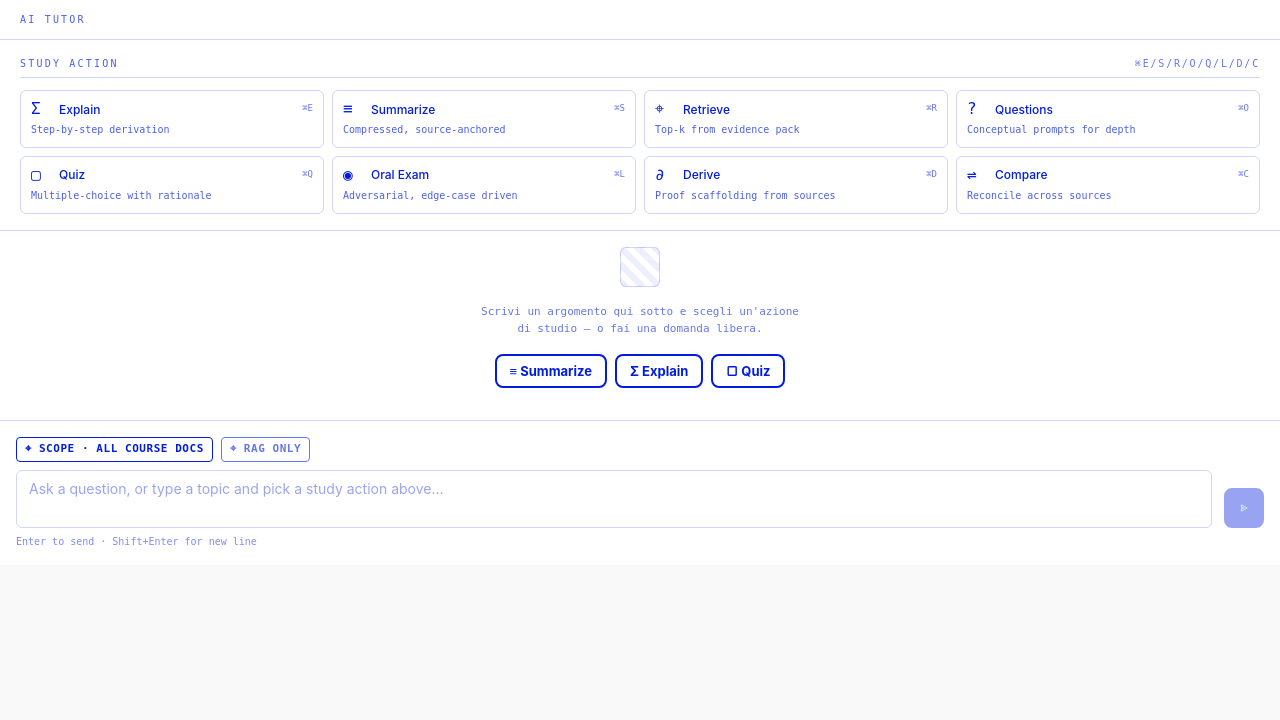
Test: OutputPane › sending a message › shows user message in the thread after send
This screenshot has width=1280, height=720.
Type "What is a UTXO?" into the text box named "message input" at (614, 499), box [16, 470, 1212, 528]
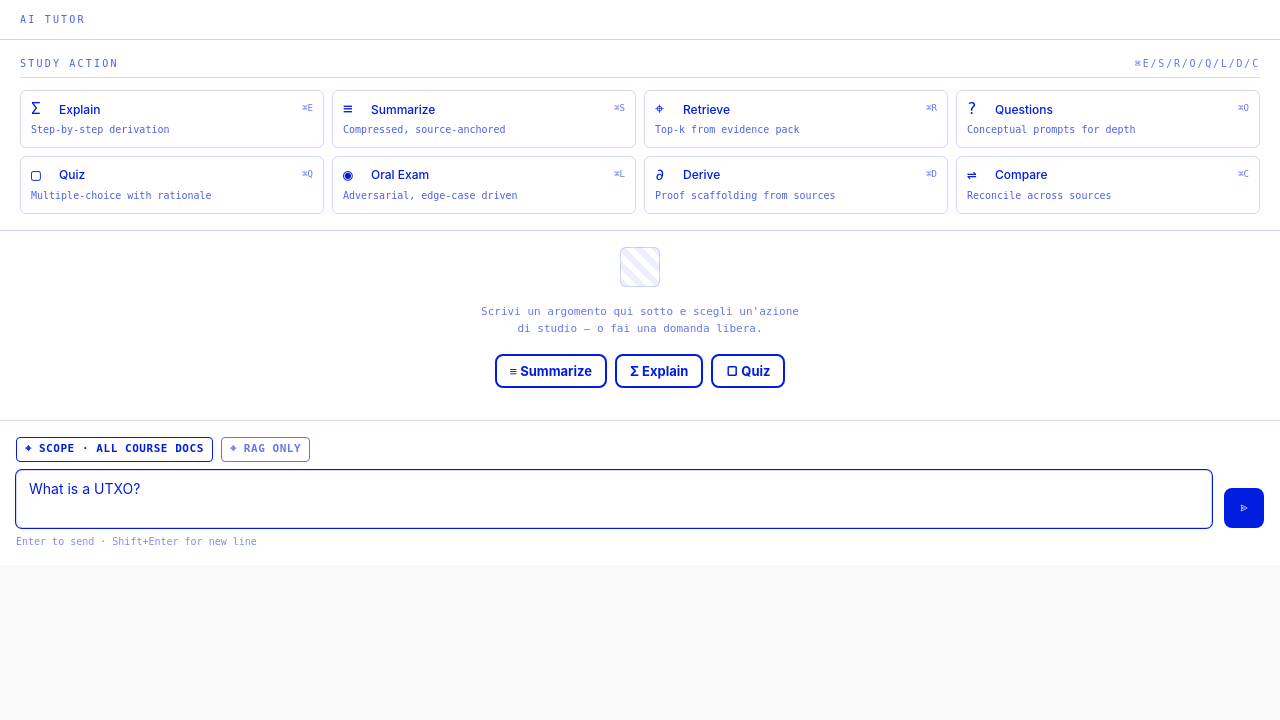
Click the button named "send message" at (1244, 508), box [1224, 488, 1264, 528]
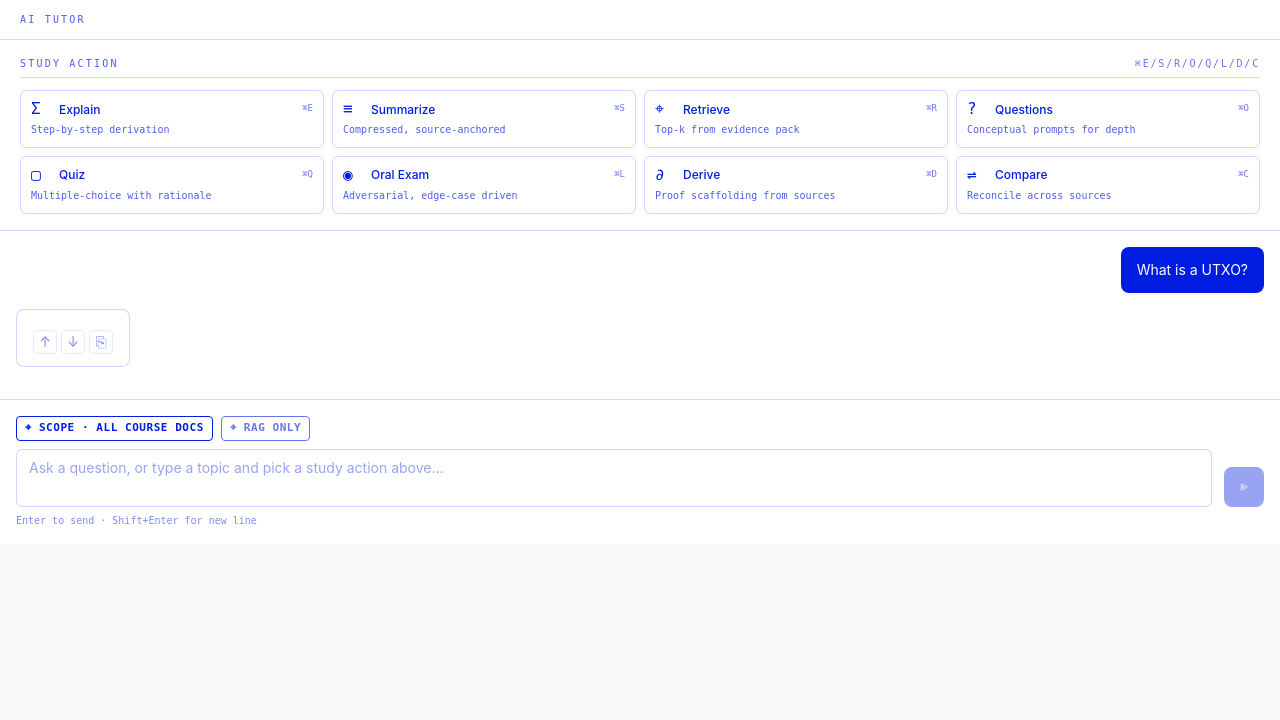
Expected: the text "What is a UTXO?" is shown, [1137, 258, 1248, 281]
